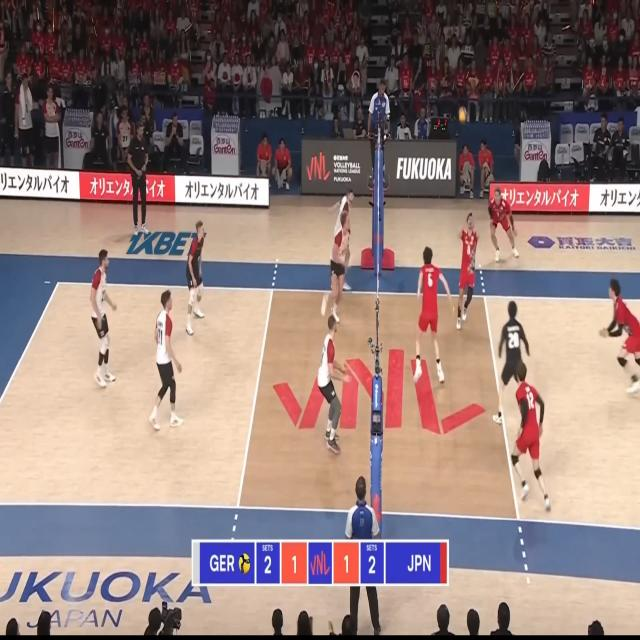ball: (459, 106, 467, 122)
